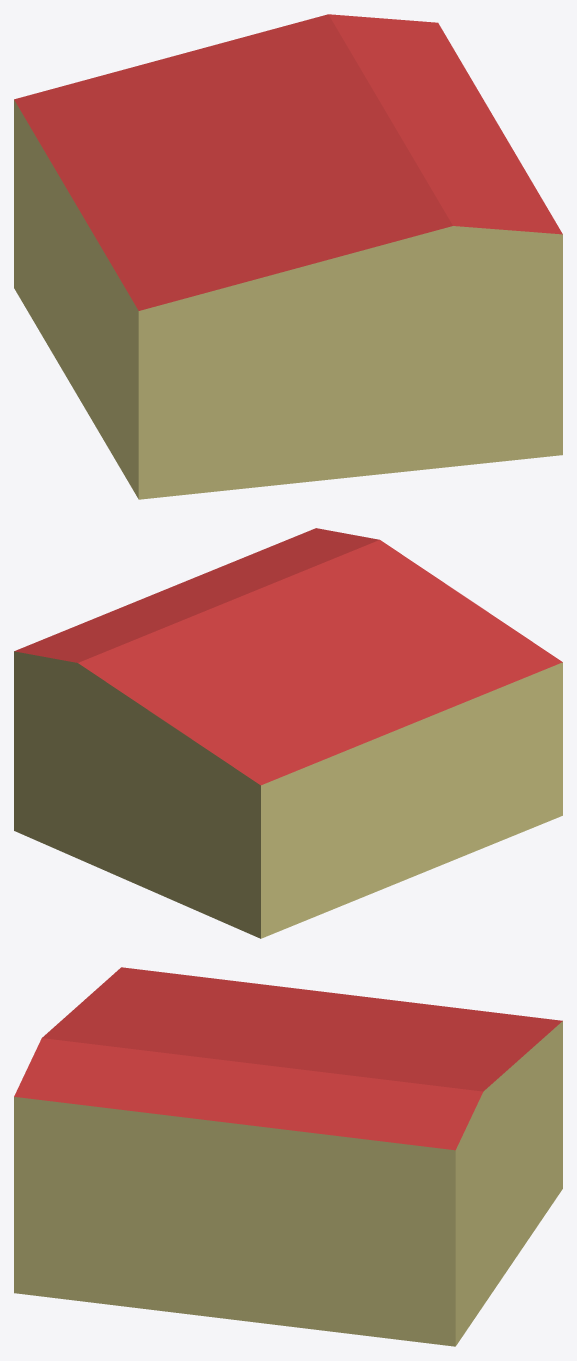
3 views of the same model, one above another, from view 1: azimuth 30°, elevation 25°; view 2: azimuth 150°, elevation 25°; view 3: azimuth 270°, elevation 25° (orthographic). The views are drawn at different scales.
Size of the model in its own units: 20.22 by 22.17 by 9.54.
